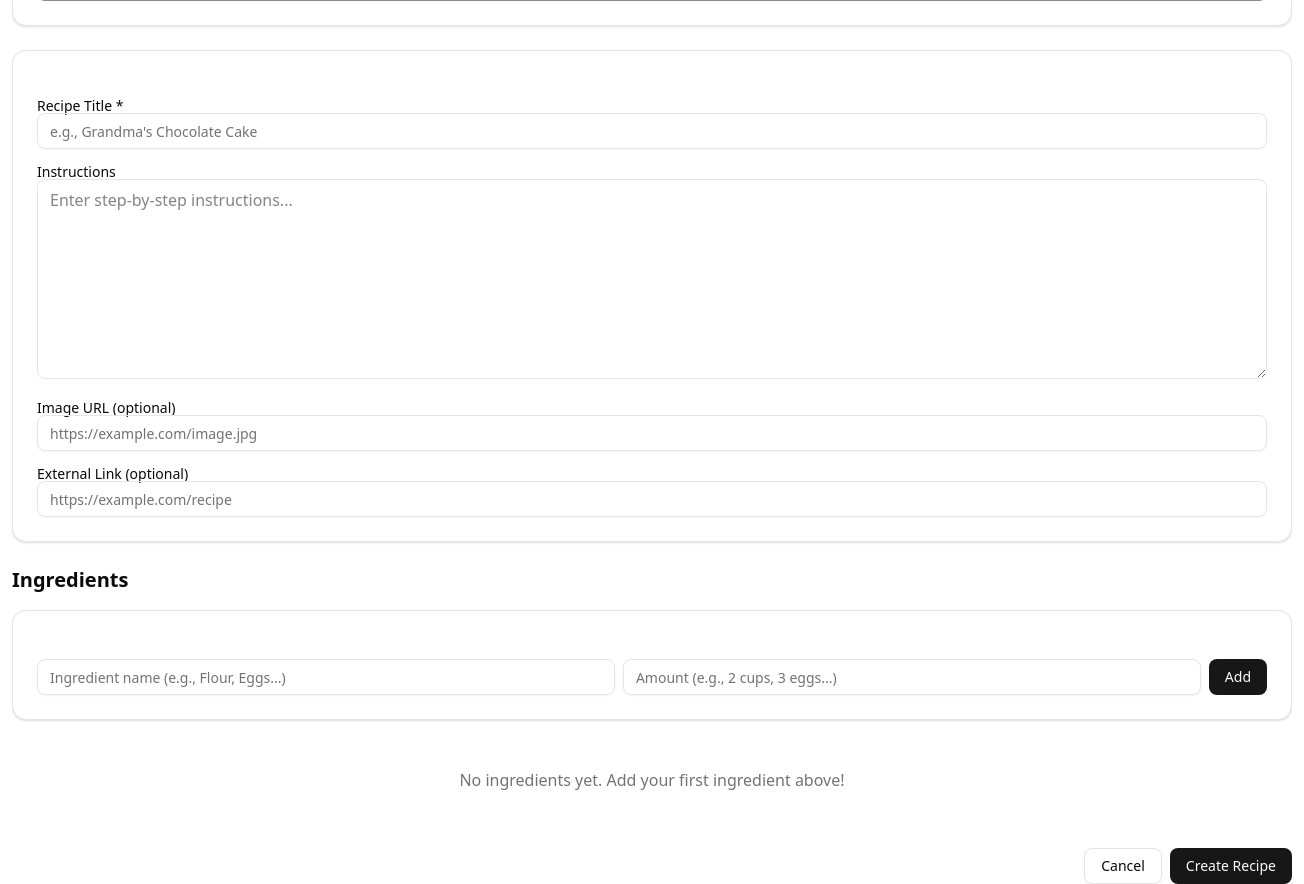
Test: RecipeForm › Error Handling › shows loading state when adding ingredient
(page scrolled)
Type "Flour" into the field with placeholder "Ingredient name (e.g., Flour, Eggs...)" at (326, 677), box [37,659,615,695]
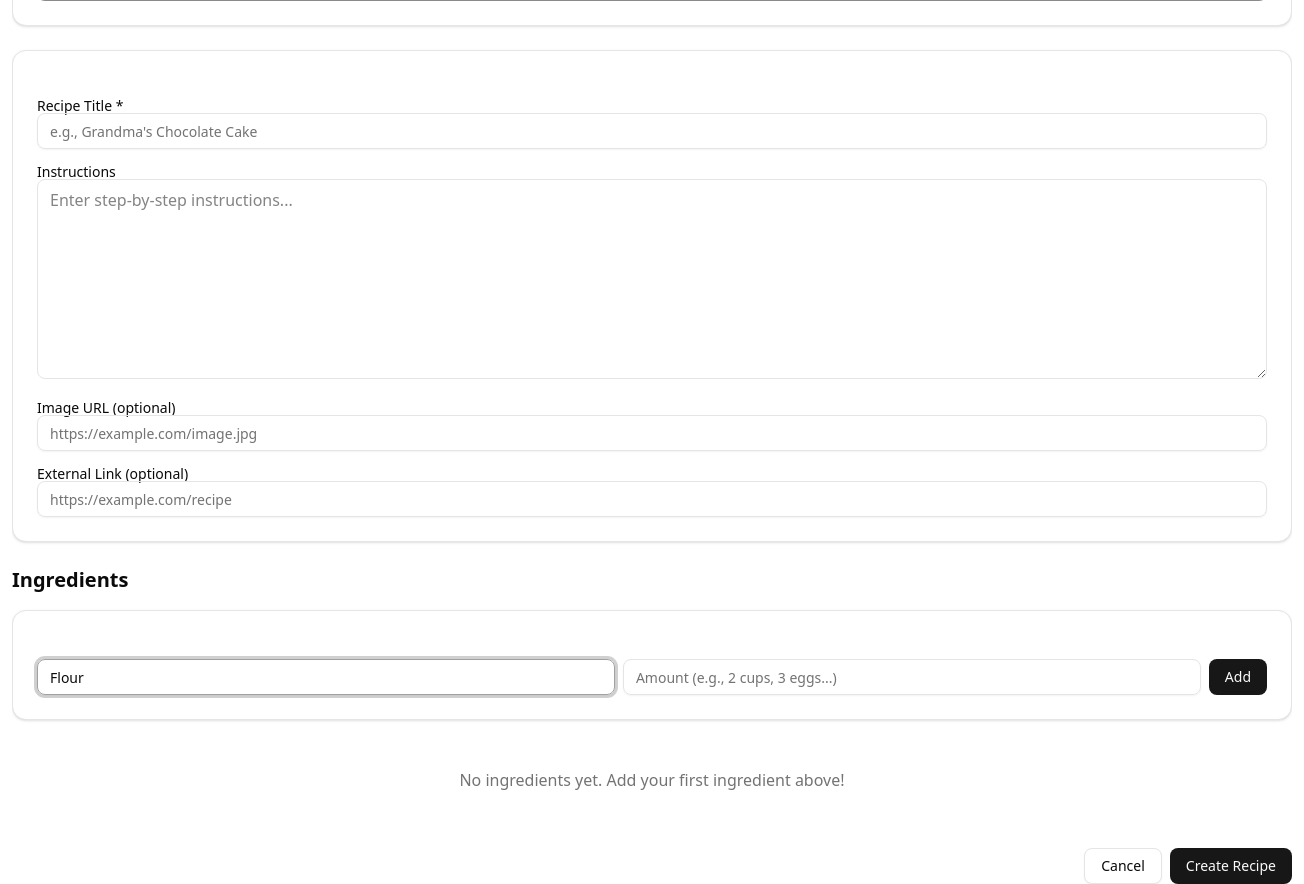
Click the button "Add" at (1238, 677), box [1209,659,1267,695]
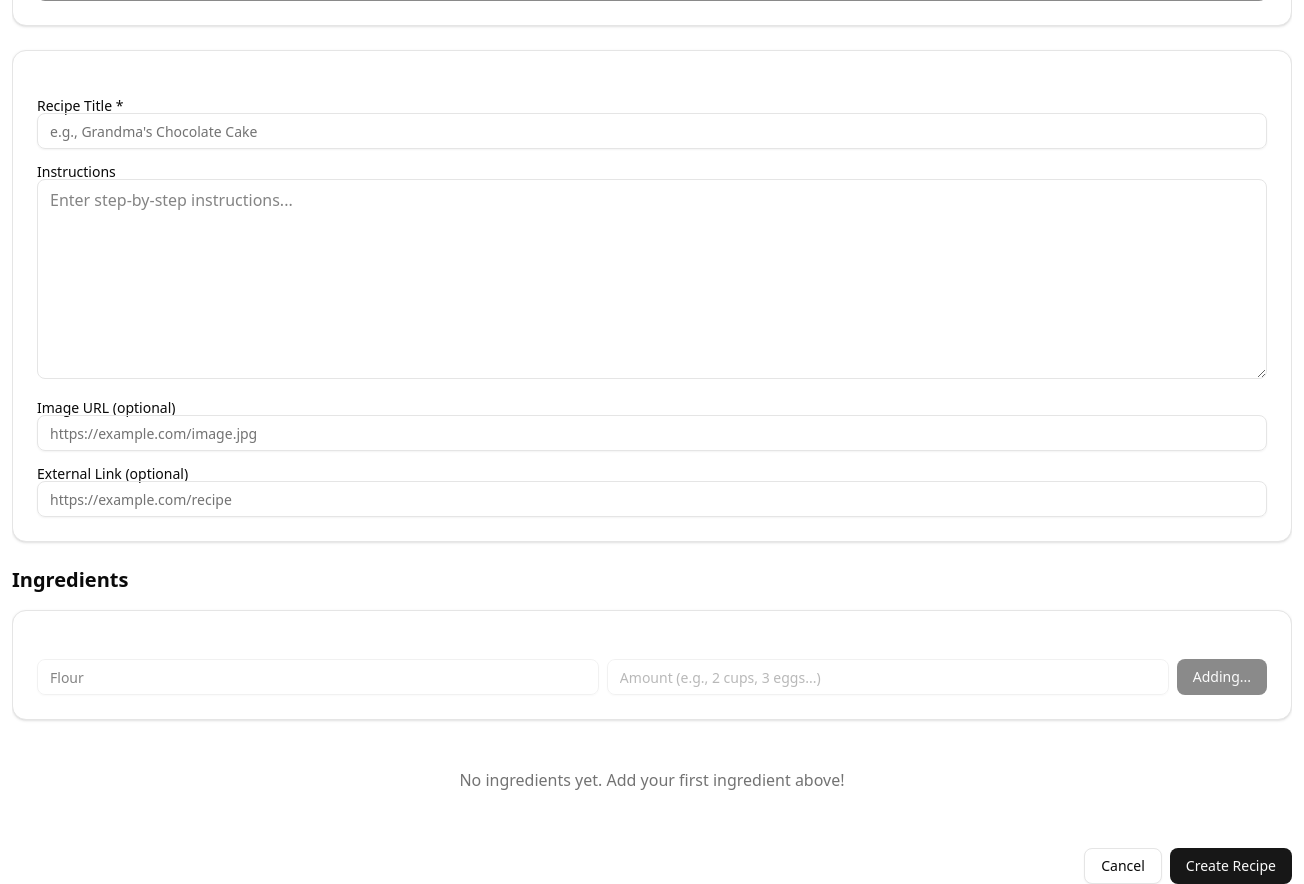
Check: the button "Adding..." is shown, box [1177,659,1267,695]
